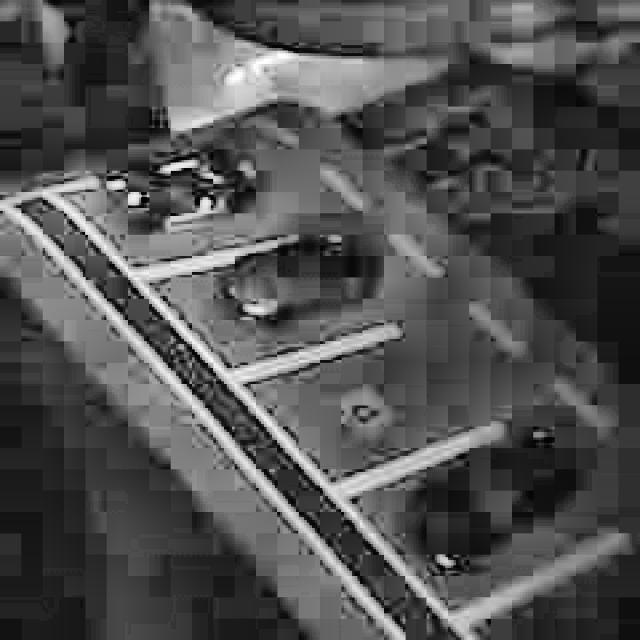car: (400, 415, 580, 585), (217, 232, 393, 338), (98, 139, 269, 244)
